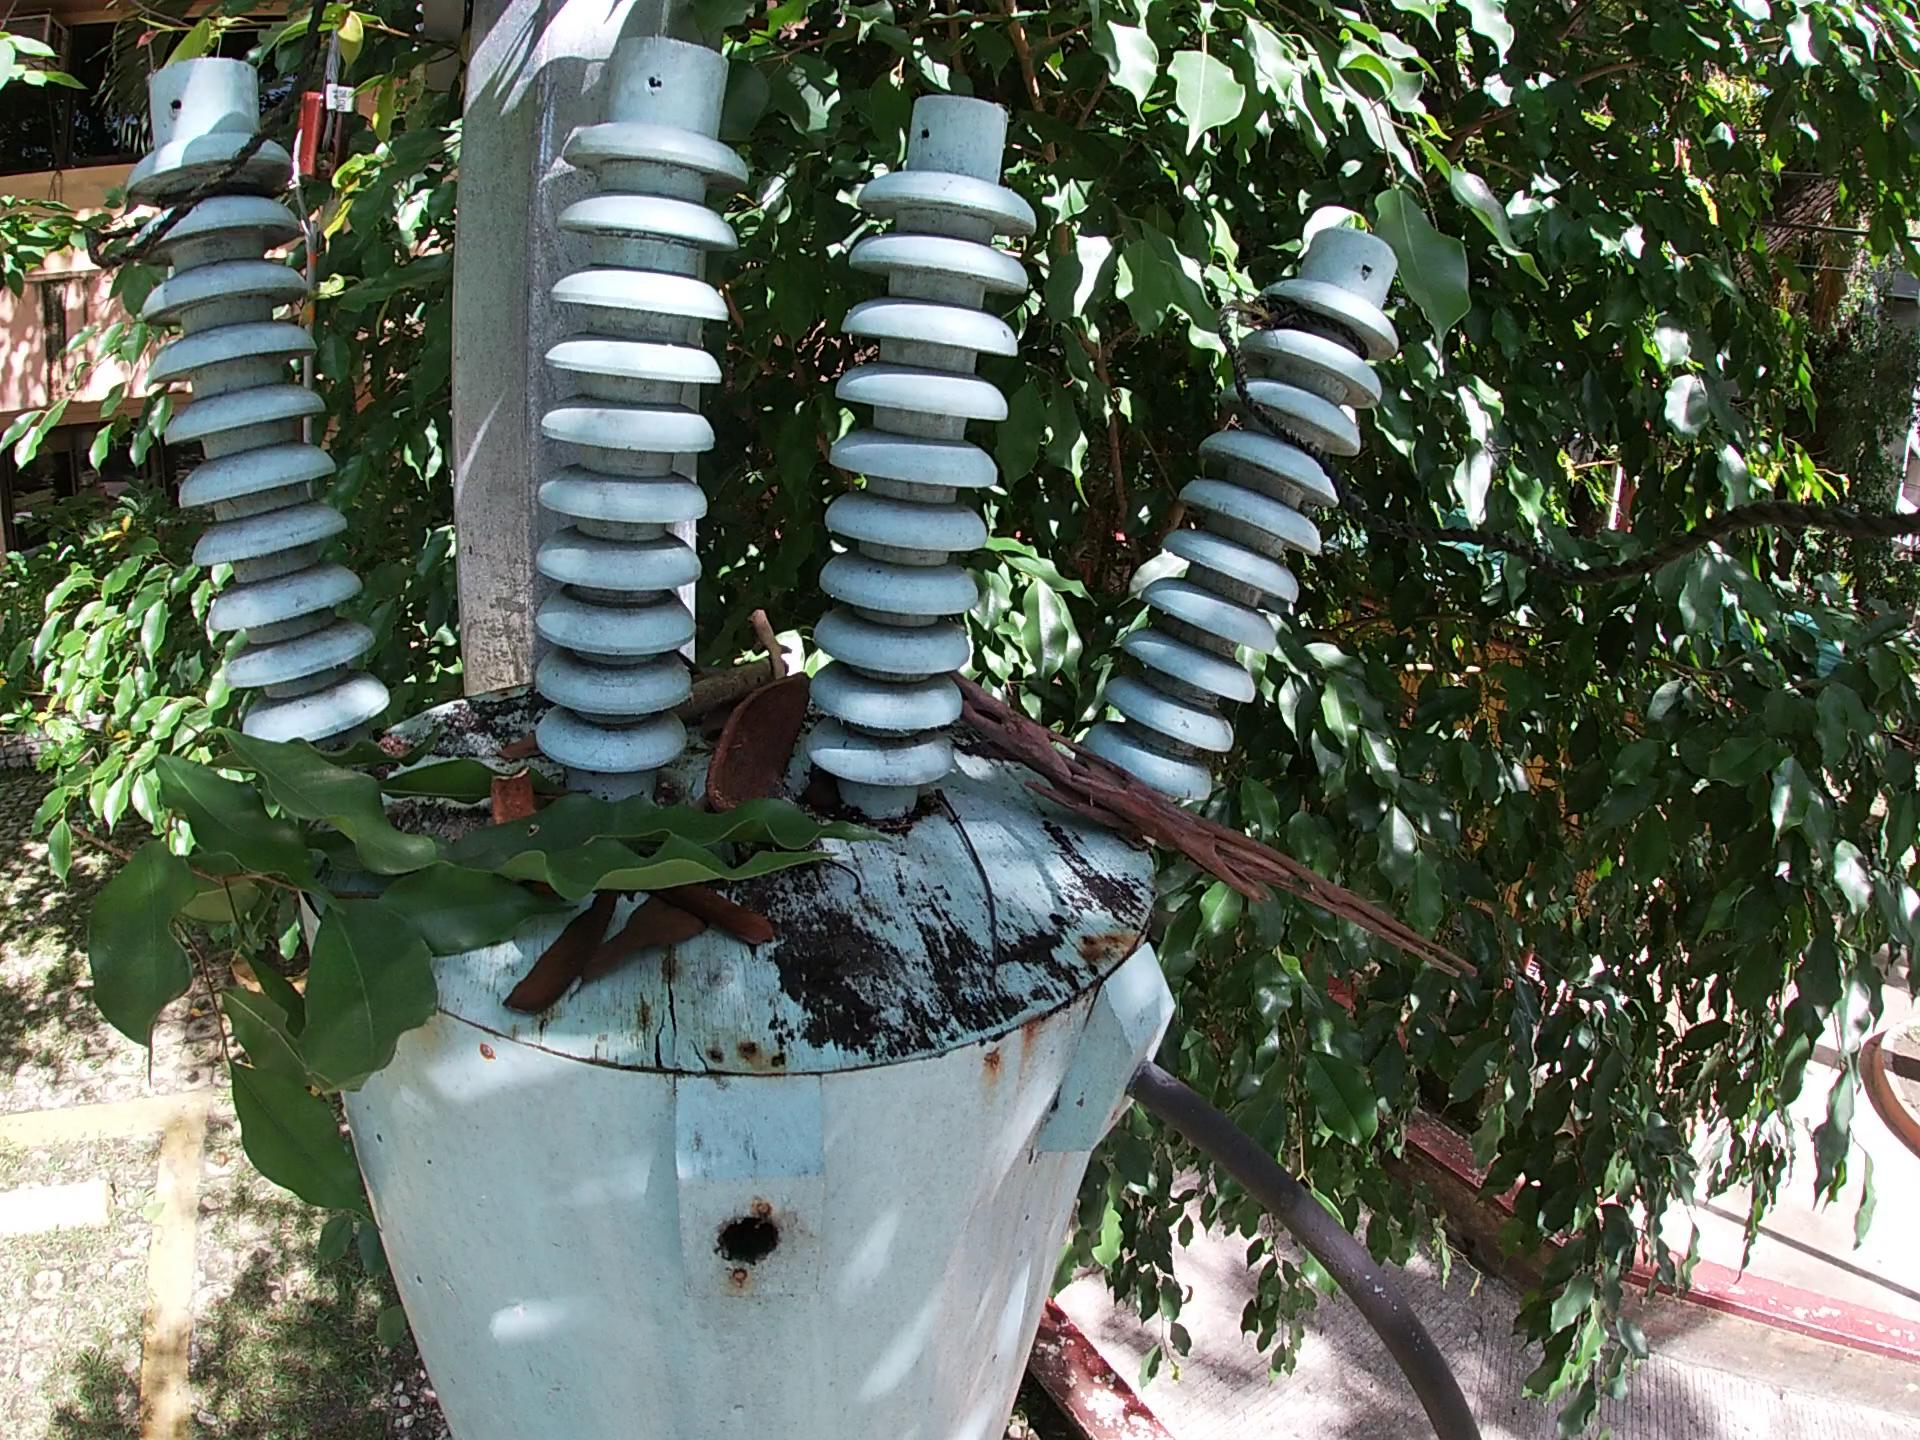branch with leaves: (79, 720, 898, 1231)
leaf: (497, 889, 620, 1029), (571, 892, 712, 1001), (647, 879, 785, 954), (487, 731, 550, 770)
mahogany fruit: (700, 669, 816, 811), (484, 765, 540, 827)
tree branch: (948, 669, 1488, 985), (673, 652, 776, 734), (741, 602, 797, 681)
